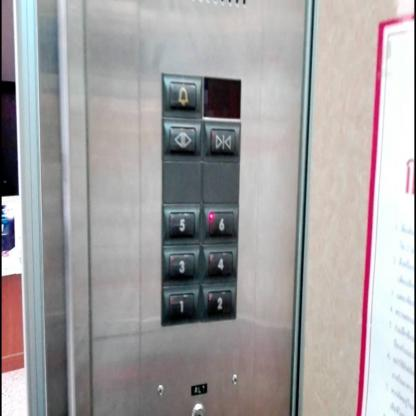1: (168, 291, 195, 320)
2: (205, 289, 233, 318)
3: (168, 251, 195, 281)
4: (206, 249, 233, 279)
5: (168, 210, 195, 240)
6: (207, 209, 234, 239)
alarm: (168, 80, 197, 112)
close: (208, 127, 236, 158)
open: (168, 125, 197, 156)
